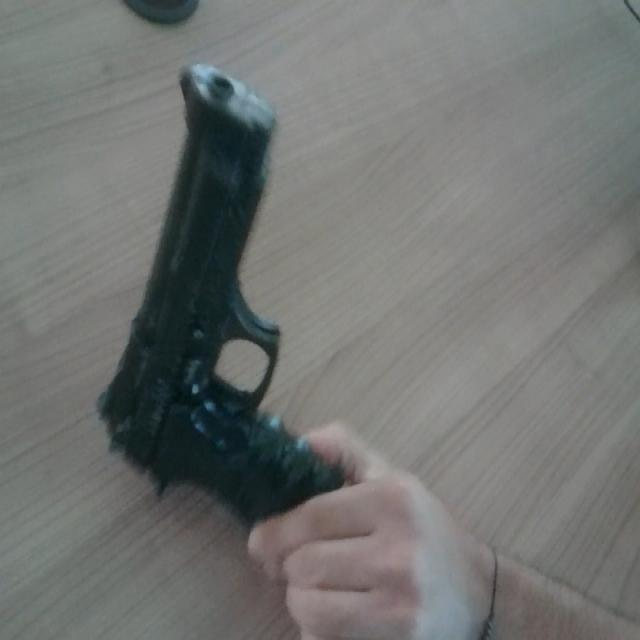handgun: (98, 47, 372, 526)
